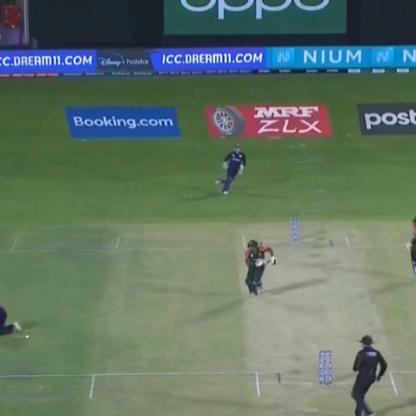pitch: (241, 220, 406, 416)
